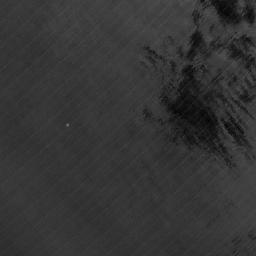Target: (65, 122, 71, 127)
